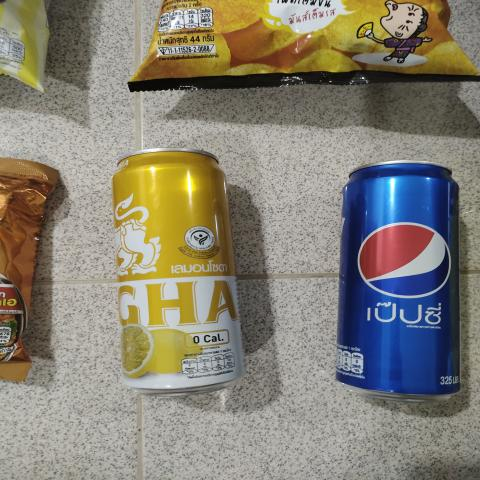pepsi_blue: (325, 153, 480, 419)
singha_yellow: (106, 141, 244, 403)
